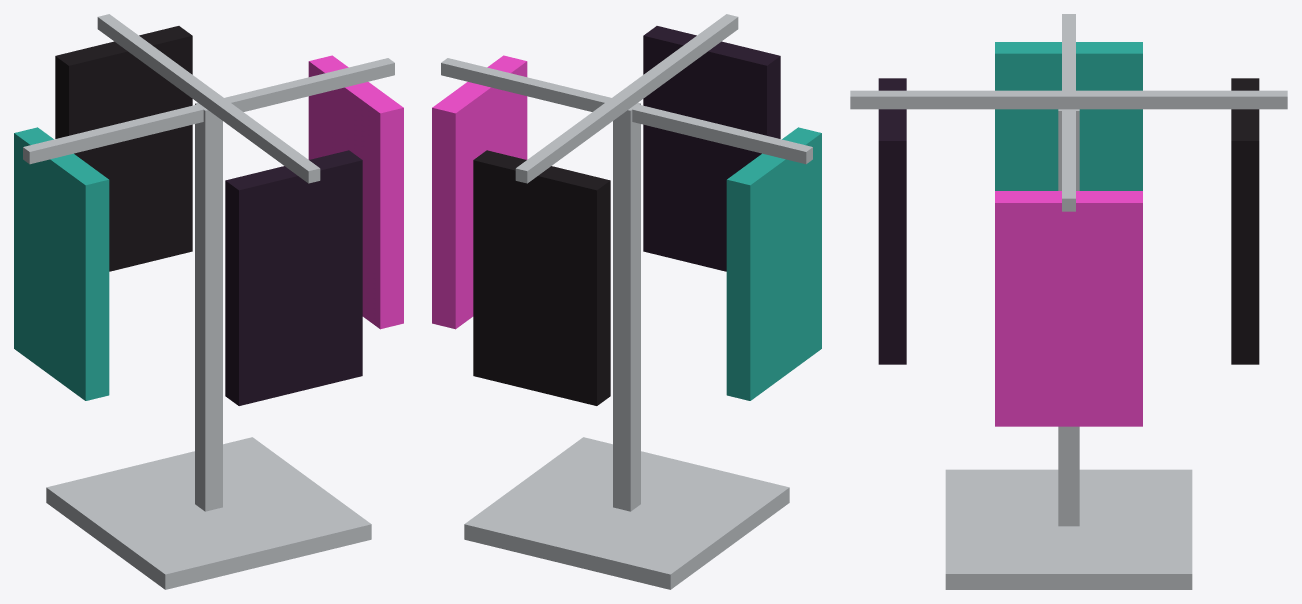
Rendered from rack_2.glb.
3 views of the same model, side by side, from view 1: azimuth 30°, elevation 25°; view 2: azimuth 150°, elevation 25°; view 3: azimuth 270°, elevation 25° (orthographic). The views are drawn at different scales.
Visible parts, largest first — view 1: Box8, Box1, Box5, Box7, Box6, Box2, Box3, Box4; view 2: Box7, Box1, Box5, Box8, Box6, Box2, Box3, Box4; view 3: Box6, Box1, Box5, Box4, Box7, Box8, Box2, Box3.
Part boxes in pixels (x1,y1,x2,y2): Box8: (225,150,362,405); Box1: (46,437,371,589); Box5: (14,127,109,400); Box7: (55,26,192,271); Box6: (308,55,403,329); Box2: (195,102,222,511); Box3: (23,58,394,164); Box4: (97,14,320,183); Box7: (473,150,610,405); Box1: (464,437,789,589); Box5: (726,127,821,400); Box8: (643,26,780,271); Box6: (432,55,527,329); Box2: (613,102,640,511); Box3: (441,58,812,164); Box4: (515,14,738,183); Box6: (995,191,1142,426); Box1: (945,469,1192,589); Box5: (995,42,1142,190); Box4: (850,90,1287,109); Box7: (1231,78,1259,364); Box8: (878,78,906,364); Box2: (1058,109,1079,526); Box3: (1062,14,1075,211).
Bounding box in the file's own units: 1.24 × 1.39 × 1.24.
